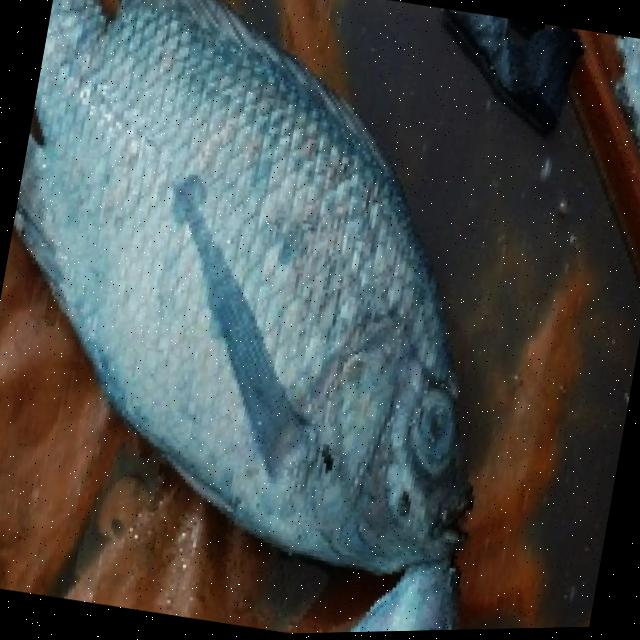Non-Fresh: (33, 41, 531, 599)
